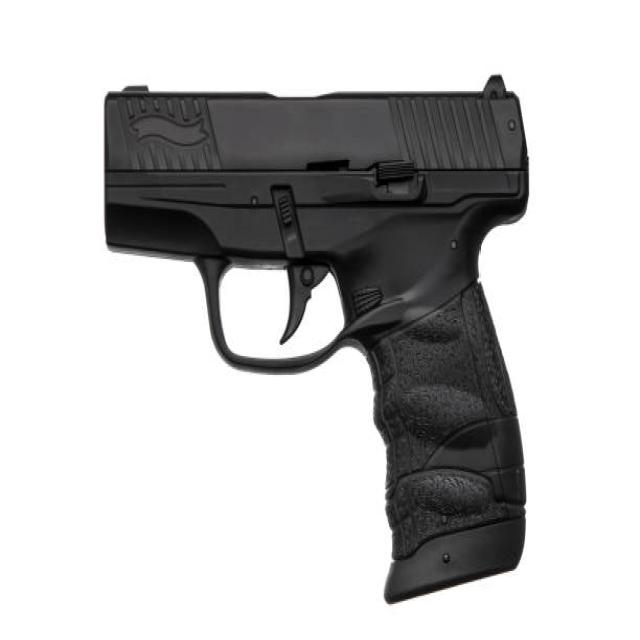pistol: (98, 63, 540, 614)
